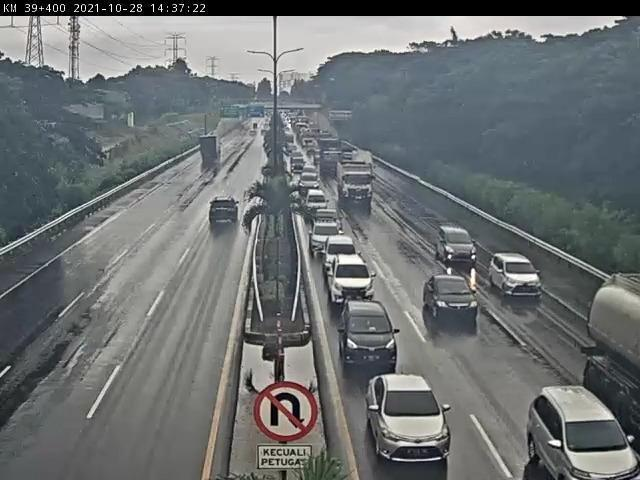car: (528, 373, 640, 480), (366, 377, 452, 465), (337, 301, 401, 366), (422, 274, 484, 322), (487, 252, 544, 302), (329, 255, 375, 304), (438, 229, 478, 270), (205, 194, 245, 232), (326, 235, 362, 273), (309, 222, 347, 256), (314, 207, 344, 232), (304, 186, 332, 212), (298, 170, 318, 189)
truck: (584, 272, 640, 441), (339, 158, 376, 204), (195, 137, 224, 166)
